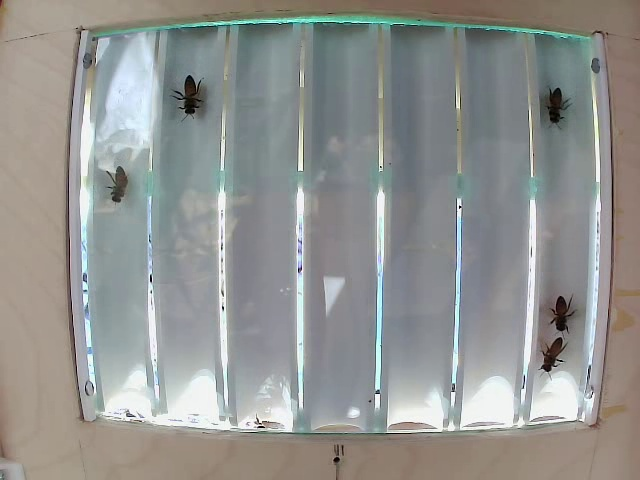bee: (91, 154, 145, 207), (174, 69, 216, 128), (543, 292, 585, 336), (537, 331, 571, 383), (543, 80, 573, 136)
